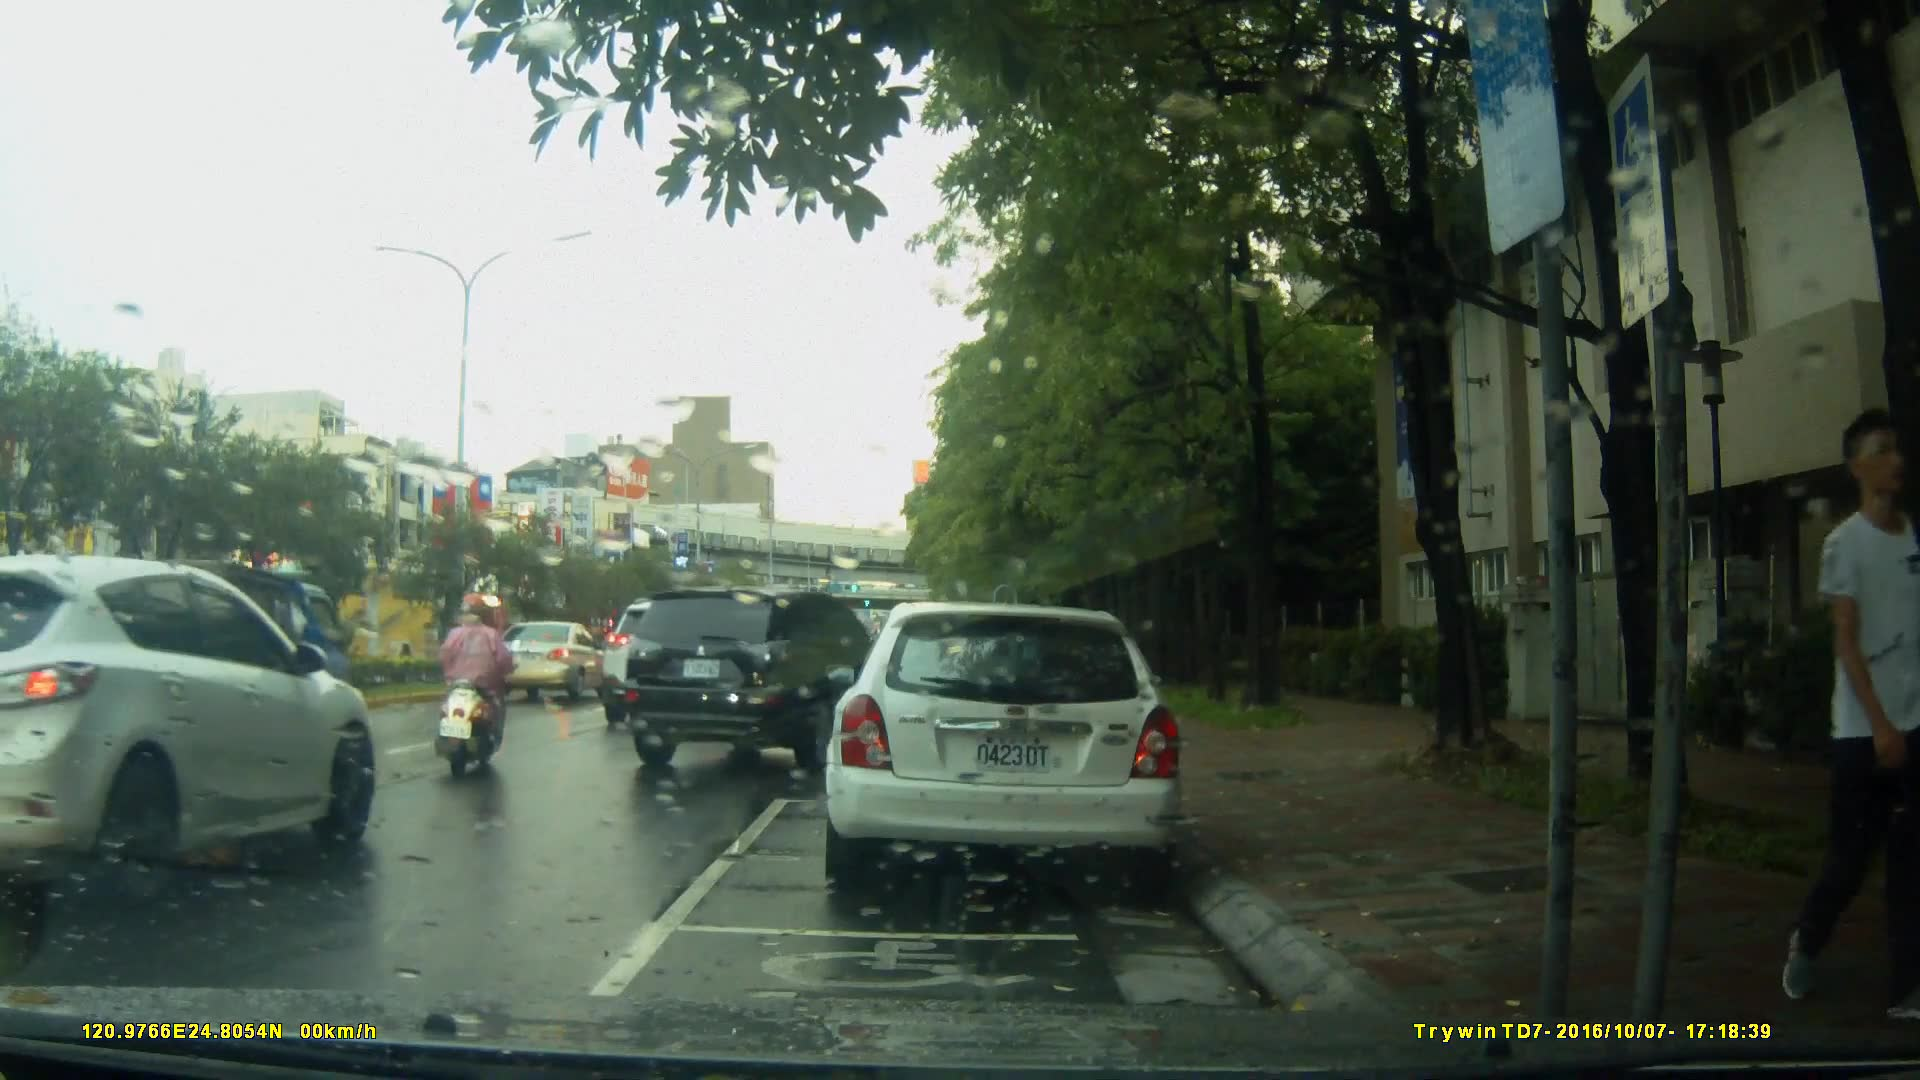pedestrian: (1795, 405, 1920, 1026)
rider: (441, 592, 513, 772)
vehicle: (1, 551, 386, 913), (820, 602, 1188, 898), (611, 583, 897, 770), (184, 540, 469, 692), (487, 618, 602, 705)
